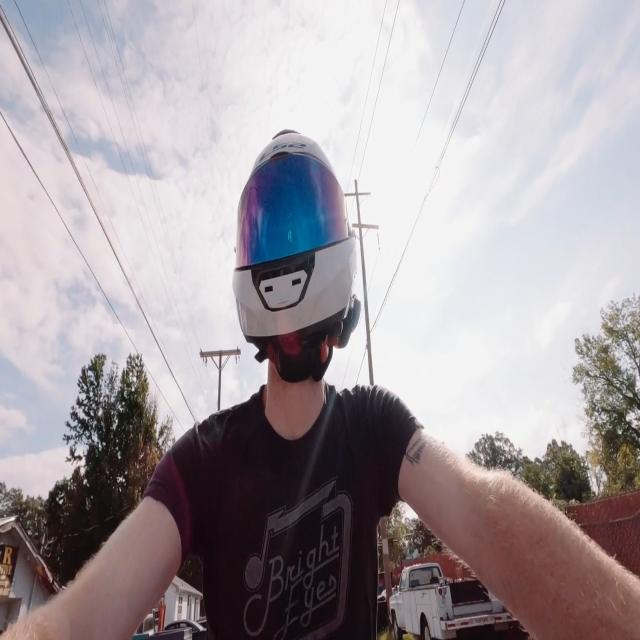Helmet_Wearer: (218, 144, 372, 433)
Person: (27, 132, 640, 640)
